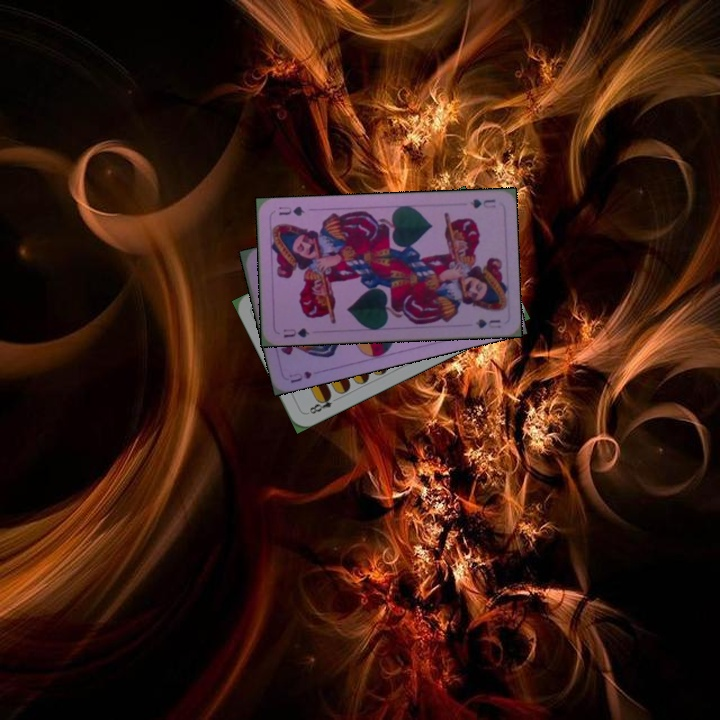E8: (303, 390, 341, 416)
GU: (279, 324, 312, 340), (467, 195, 498, 211)
SU: (285, 367, 314, 386)
